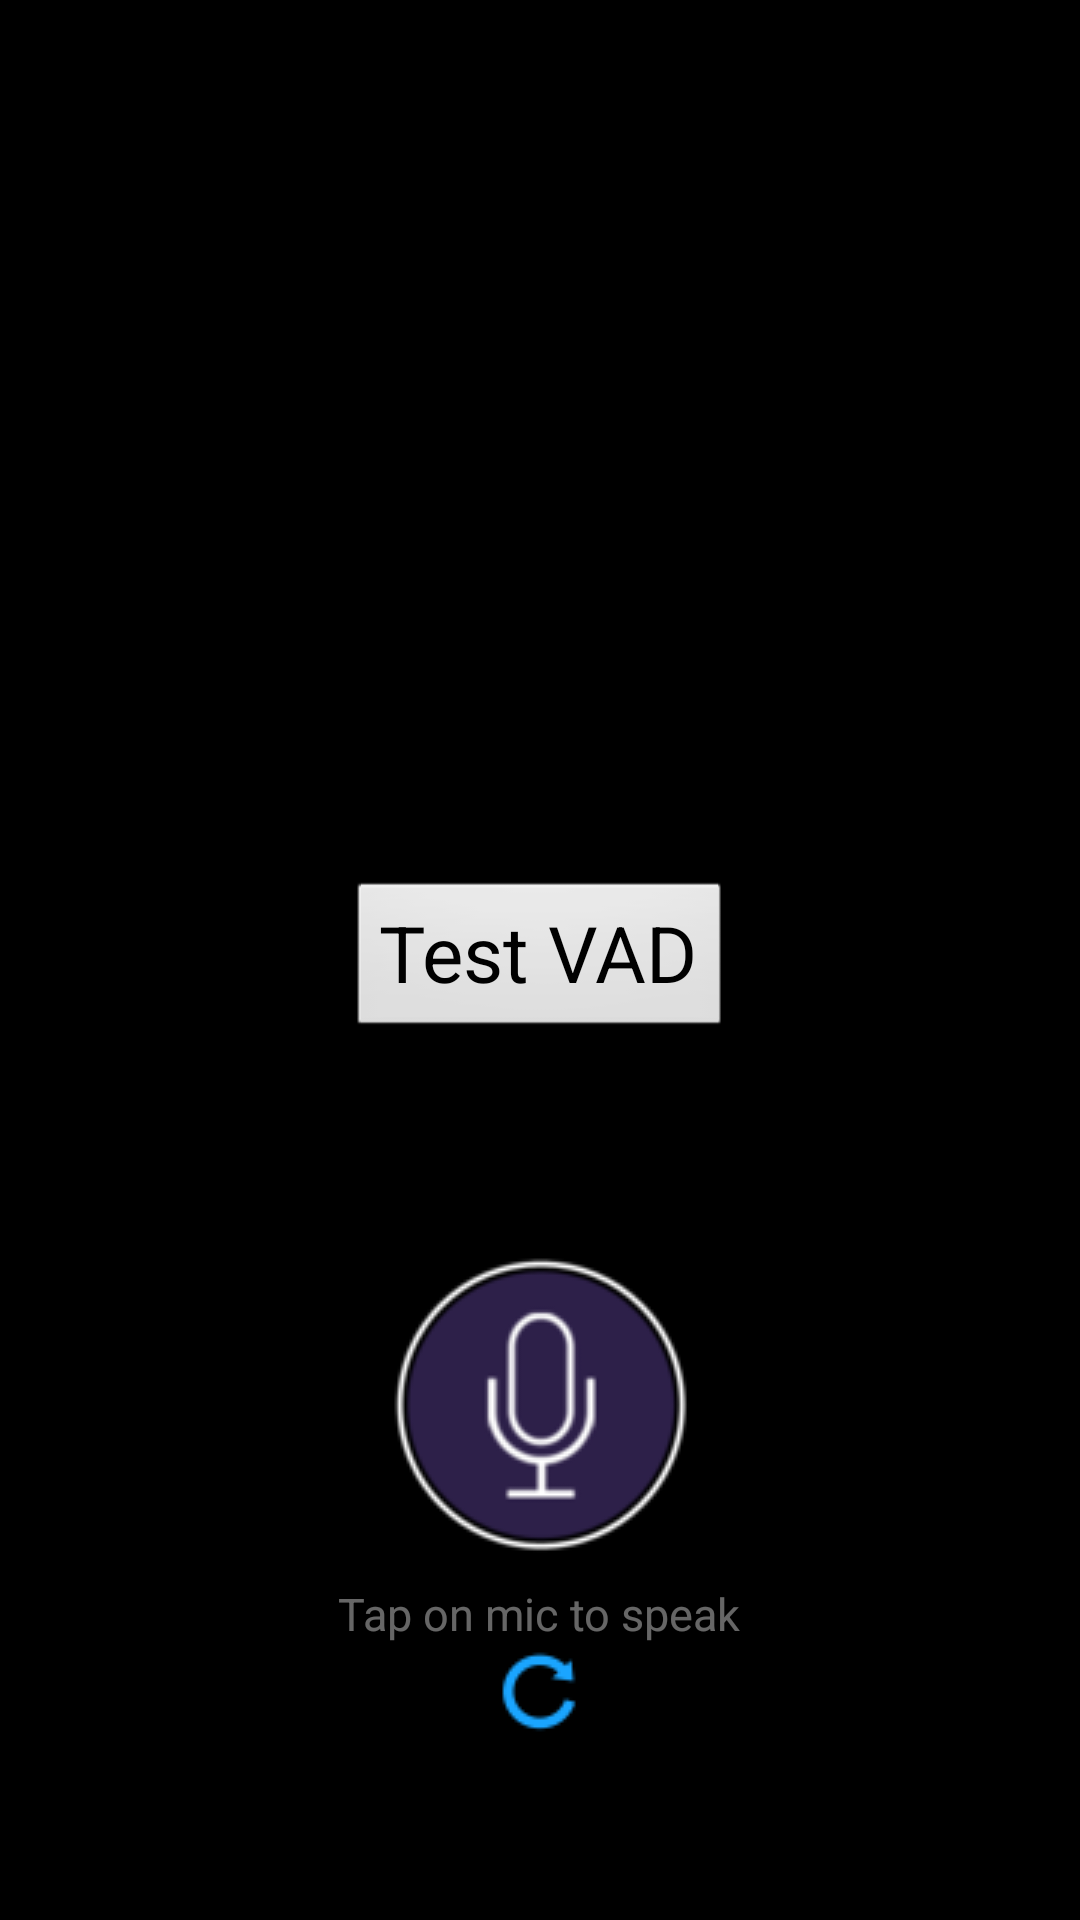

Icons on this 1080 × 1920 Android screen, each with its box as (x1, y1, x2, y2):
reset: (502, 1652, 576, 1730)
